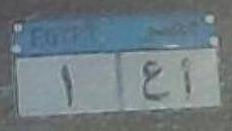1: (55, 63, 78, 108)
ain: (136, 53, 172, 107)
alif: (177, 54, 194, 105)
